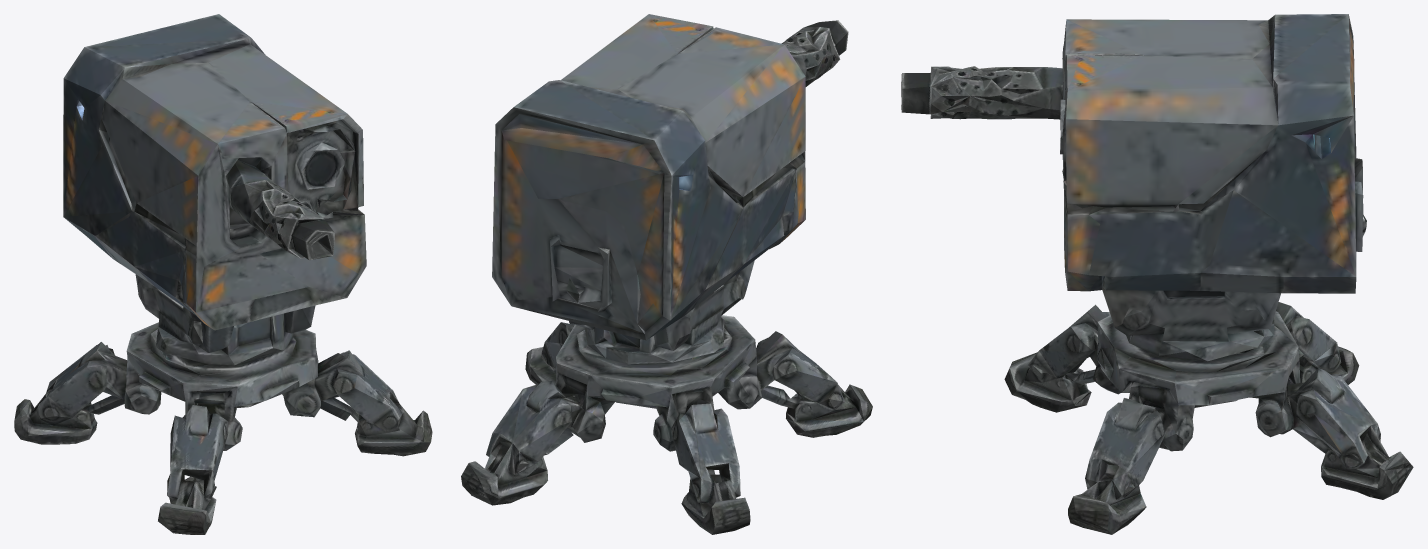
The model's file is gunpost.glb.
3 renders of one model, left to right at view 1: azimuth 30°, elevation 25°; view 2: azimuth 150°, elevation 25°; view 3: azimuth 270°, elevation 25°, orthographic. The views are drawn at different scales.
Visible parts, largest first — view 1: Mesh_0; view 2: Mesh_0; view 3: Mesh_0.
Part boxes in pixels (x1,y1,x2,y2): Mesh_0: (14,14,432,534); Mesh_0: (461,14,872,534); Mesh_0: (901,14,1413,534).
Size of the model in its own units: 0.505 by 0.5663 by 0.65.
Materials: 1 (1 with a texture image).
